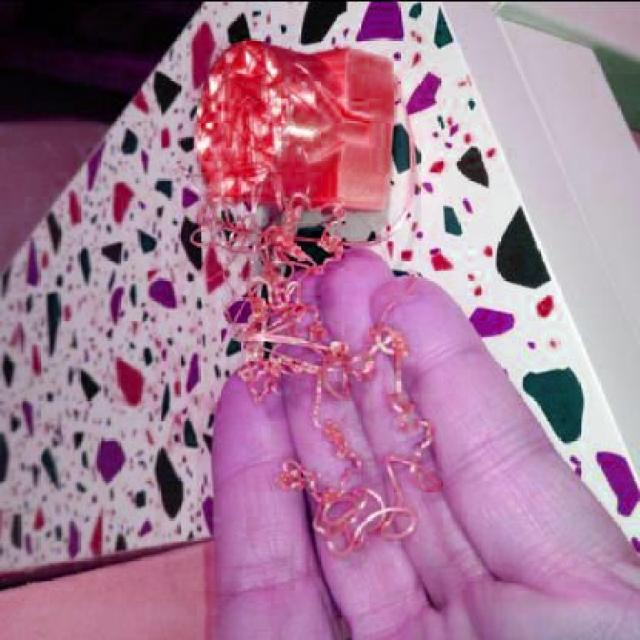Spaghetti: (188, 149, 440, 556)
